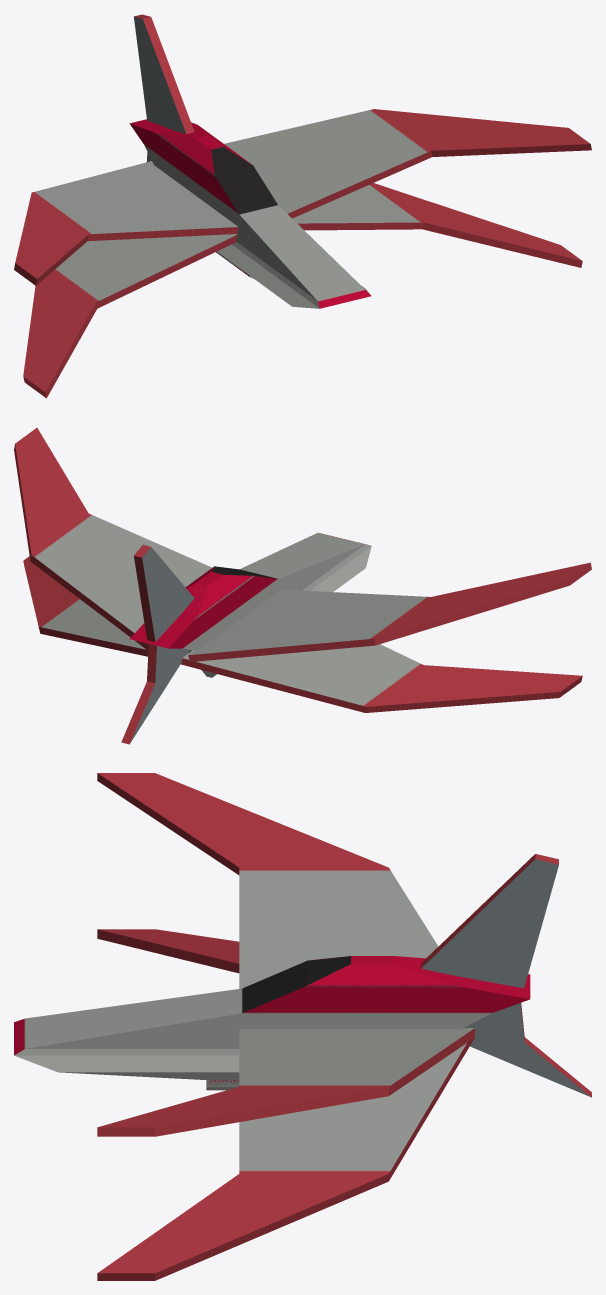
Rendered from EnemyShip.glb.
The picture shows the model from 3 angles, top to bottom: view 1: azimuth 30°, elevation 25°; view 2: azimuth 150°, elevation 25°; view 3: azimuth 270°, elevation 25°; orthographic projection. The views are drawn at different scales.
Parts seen in each view (by area): view 1: Cube.005; view 2: Cube.005; view 3: Cube.005.
Part boxes in pixels (<box>): Cube.005: <box>14,14,591,398</box>; Cube.005: <box>14,427,591,744</box>; Cube.005: <box>14,773,591,1280</box>.
Size of the model in its own units: 4.7 by 1.56 by 3.22.
1 material, 1 textured.
